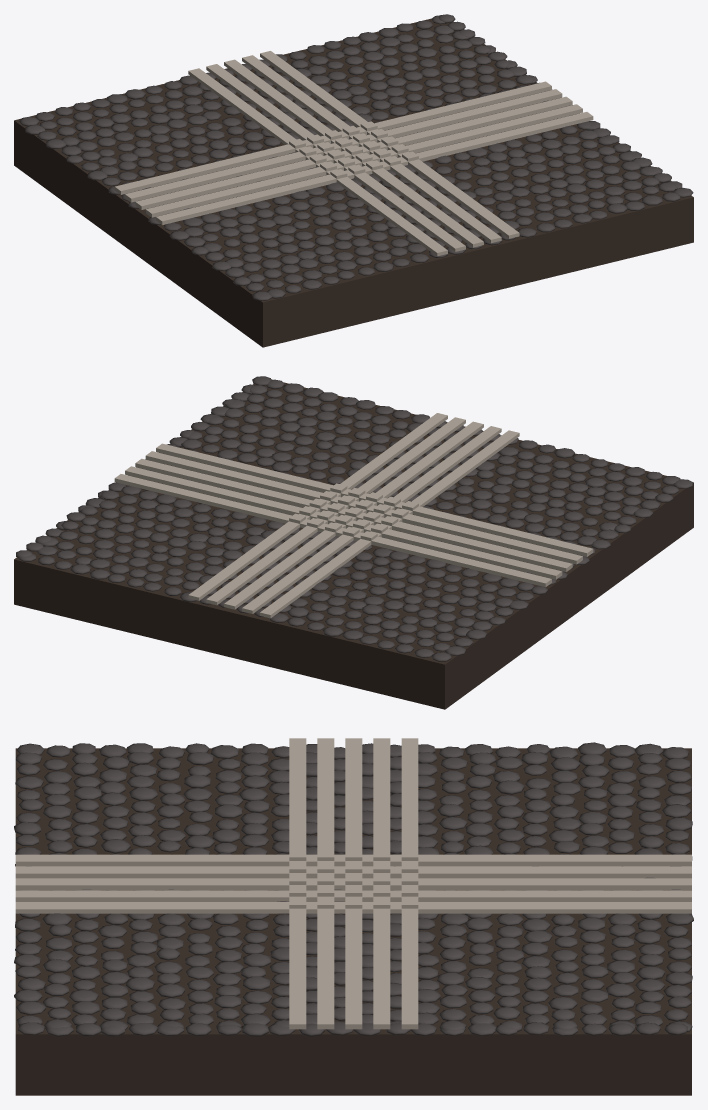
Rendered from 20-intersection.glb.
The picture shows the model from 3 angles, top to bottom: view 1: azimuth 30°, elevation 25°; view 2: azimuth 150°, elevation 25°; view 3: azimuth 270°, elevation 25°; orthographic projection. The views are drawn at different scales.
Parts seen in each view (by area): view 1: cobbles, slab, stripes_h, stripes_v; view 2: cobbles, slab, stripes_h, stripes_v; view 3: cobbles, slab, stripes_v, stripes_h.
Part boxes in pixels (x1=…): cobbles: x1=19, y1=14, x2=693, y2=300; slab: x1=14, y1=18, x2=693, y2=347; stripes_h: x1=114, y1=81, x2=593, y2=225; stripes_v: x1=188, y1=51, x2=519, y2=256; cobbles: x1=16, y1=376, x2=692, y2=661; slab: x1=14, y1=379, x2=693, y2=709; stripes_h: x1=114, y1=443, x2=593, y2=587; stripes_v: x1=188, y1=413, x2=519, y2=618; cobbles: x1=14, y1=742, x2=693, y2=1036; slab: x1=15, y1=748, x2=691, y2=1095; stripes_v: x1=15, y1=850, x2=691, y2=913; stripes_h: x1=289, y1=738, x2=418, y2=1029.
Size of the model in its own units: 1.02 by 0.1225 by 1.01.
